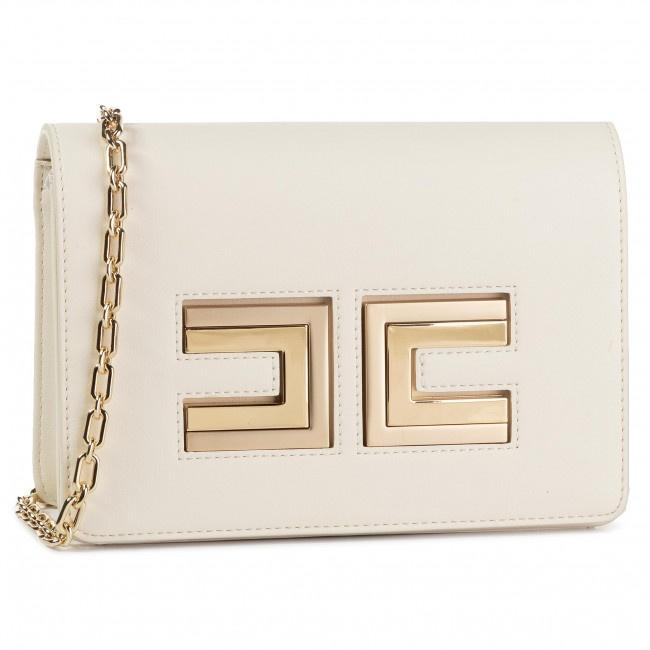ELISABETTA-FRANCHI: (163, 271, 530, 469)
